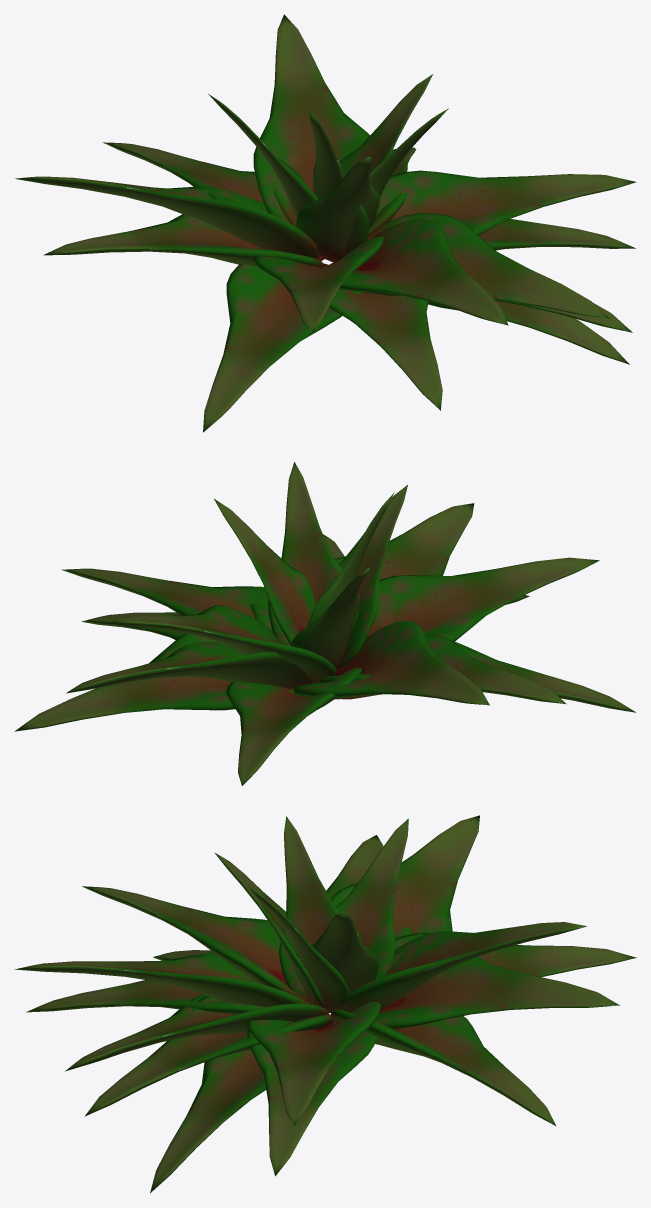
File: succlulent.fbx
The picture shows the model from 3 angles, top to bottom: view 1: azimuth 30°, elevation 25°; view 2: azimuth 150°, elevation 25°; view 3: azimuth 270°, elevation 25°; orthographic projection. The views are drawn at different scales.
Parts seen in each view (by area): view 1: Plane.005; view 2: Plane.005; view 3: Plane.005.
Part boxes in pixels (x1=…): Plane.005: x1=15, y1=14, x2=636, y2=432; Plane.005: x1=14, y1=462, x2=635, y2=785; Plane.005: x1=14, y1=815, x2=636, y2=1193.
Size of the model in its own units: 9.52 by 4.38 by 9.57.
1 material, 1 textured.
